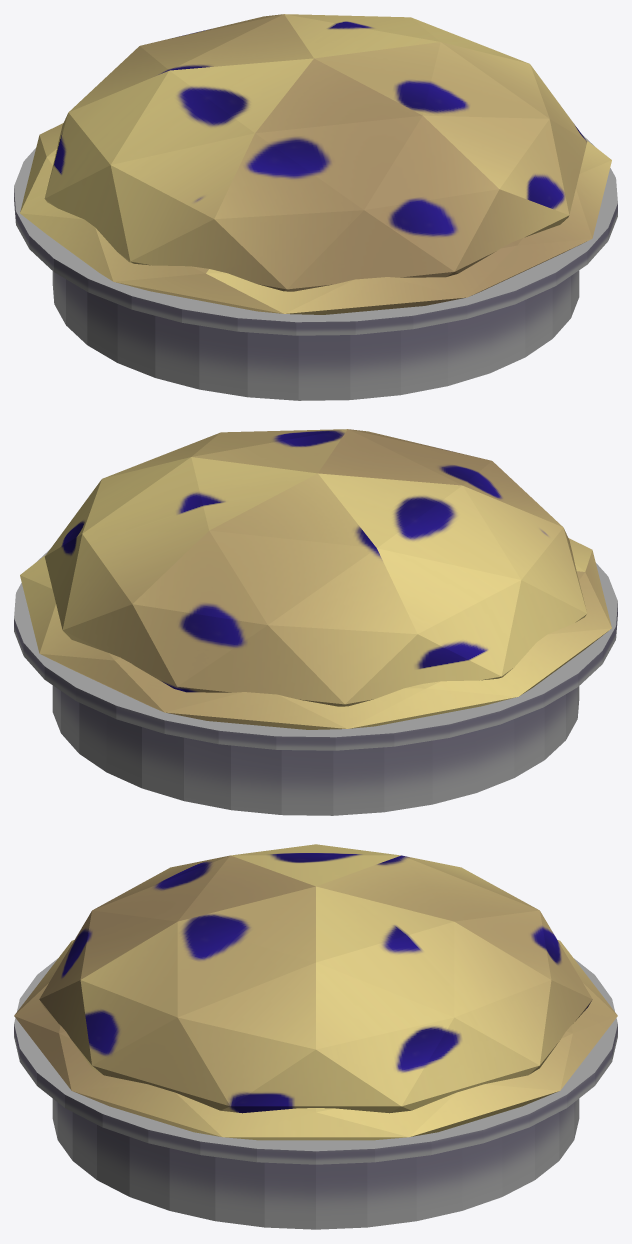
The model's file is pie.fbx.
3 views of the same model, one above another, from view 1: azimuth 30°, elevation 25°; view 2: azimuth 150°, elevation 25°; view 3: azimuth 270°, elevation 25° (orthographic).
Parts seen in each view (by area): view 1: Icosphere, Cylinder, Icosphere.001, Cylinder.001; view 2: Icosphere, Cylinder, Icosphere.001, Cylinder.001; view 3: Icosphere, Cylinder, Icosphere.001, Cylinder.001.
Boxes of the visible parts, x1,y1,x2,y2 form: Icosphere: (44, 14, 587, 291); Cylinder: (52, 270, 579, 400); Icosphere.001: (20, 123, 611, 314); Cylinder.001: (14, 134, 617, 335); Icosphere: (44, 429, 587, 706); Cylinder: (52, 685, 579, 815); Icosphere.001: (20, 538, 611, 729); Cylinder.001: (14, 549, 617, 750); Icosphere: (39, 844, 592, 1113); Cylinder: (52, 1099, 579, 1229); Icosphere.001: (14, 940, 617, 1140); Cylinder.001: (14, 958, 617, 1164).
Bounding box in the file's own units: 333 × 141 × 333.
4 materials, 4 textured.
